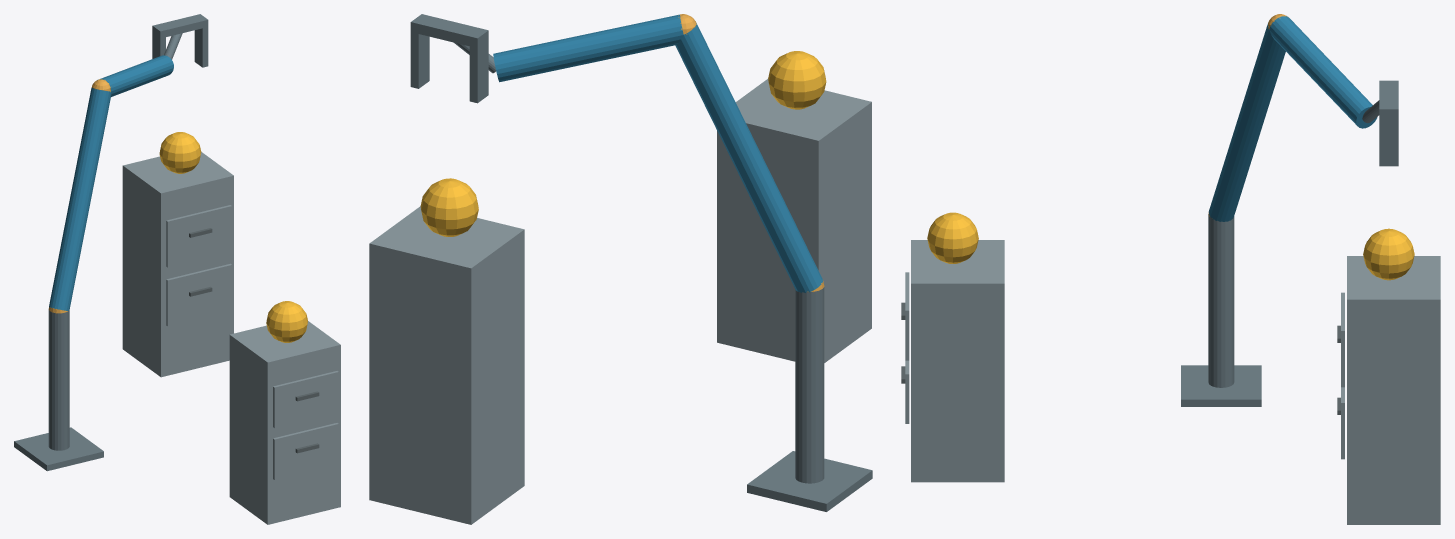
The picture shows the model from 3 angles, left to right: view 1: azimuth 30°, elevation 25°; view 2: azimuth 150°, elevation 25°; view 3: azimuth 270°, elevation 25°; orthographic projection. The views are drawn at different scales.
Parts seen in each view (by area): view 1: cabinet_2 body, cabinet_1 body, moving link 1, cabinet_2 drawer front, cabinet_2 drawer front.001, fixed post, cabinet_1 drawer front, cabinet_1 drawer front.001, pedestal, moving link 2, ball ball_2, released ball_1 (+2 smaller); view 2: cabinet_2 body, cabinet_1 body, moving link 1, fixed post, moving link 2, pedestal, released ball_1, ball ball_2, gripper bridge, gripper finger -1, gripper finger 1; view 3: cabinet_2 body, cabinet_1 body, moving link 1, fixed post, moving link 2, pedestal, released ball_1, ball ball_2, gripper finger 1, gripper bridge.
Part boxes in pixels (x1,y1,x2,y2): cabinet_2 body: (122, 152, 233, 377); cabinet_1 body: (229, 321, 340, 524); moving link 1: (49, 87, 111, 310); cabinet_2 drawer front: (166, 263, 231, 326); cabinet_2 drawer front.001: (166, 205, 231, 267); fixed post: (48, 310, 69, 450); cabinet_1 drawer front: (273, 423, 338, 479); cabinet_1 drawer front.001: (273, 371, 338, 427); pedestal: (14, 427, 103, 471); moving link 2: (98, 55, 173, 96); ball ball_2: (159, 132, 201, 173); released ball_1: (266, 301, 307, 342); cabinet_2 body: (369, 206, 524, 524); cabinet_1 body: (717, 79, 871, 362); moving link 1: (675, 23, 823, 292); fixed post: (795, 287, 824, 483); moving link 2: (493, 14, 683, 82); pedestal: (747, 451, 872, 511); released ball_1: (768, 51, 826, 109); ball ball_2: (420, 178, 478, 236); gripper bridge: (410, 14, 488, 48); gripper finger -1: (469, 40, 488, 103); gripper finger 1: (410, 32, 429, 88); cabinet_2 body: (1347, 256, 1440, 524); cabinet_1 body: (911, 240, 1004, 482); moving link 1: (1208, 24, 1285, 221); fixed post: (1208, 215, 1234, 387); moving link 2: (1269, 16, 1377, 128); pedestal: (1181, 365, 1261, 406); released ball_1: (927, 212, 978, 263); ball ball_2: (1363, 228, 1414, 280); gripper finger 1: (1379, 118, 1398, 166); gripper bridge: (1379, 80, 1398, 118).
Bounding box in the file's own units: 1.12 × 1.42 × 1.67.
